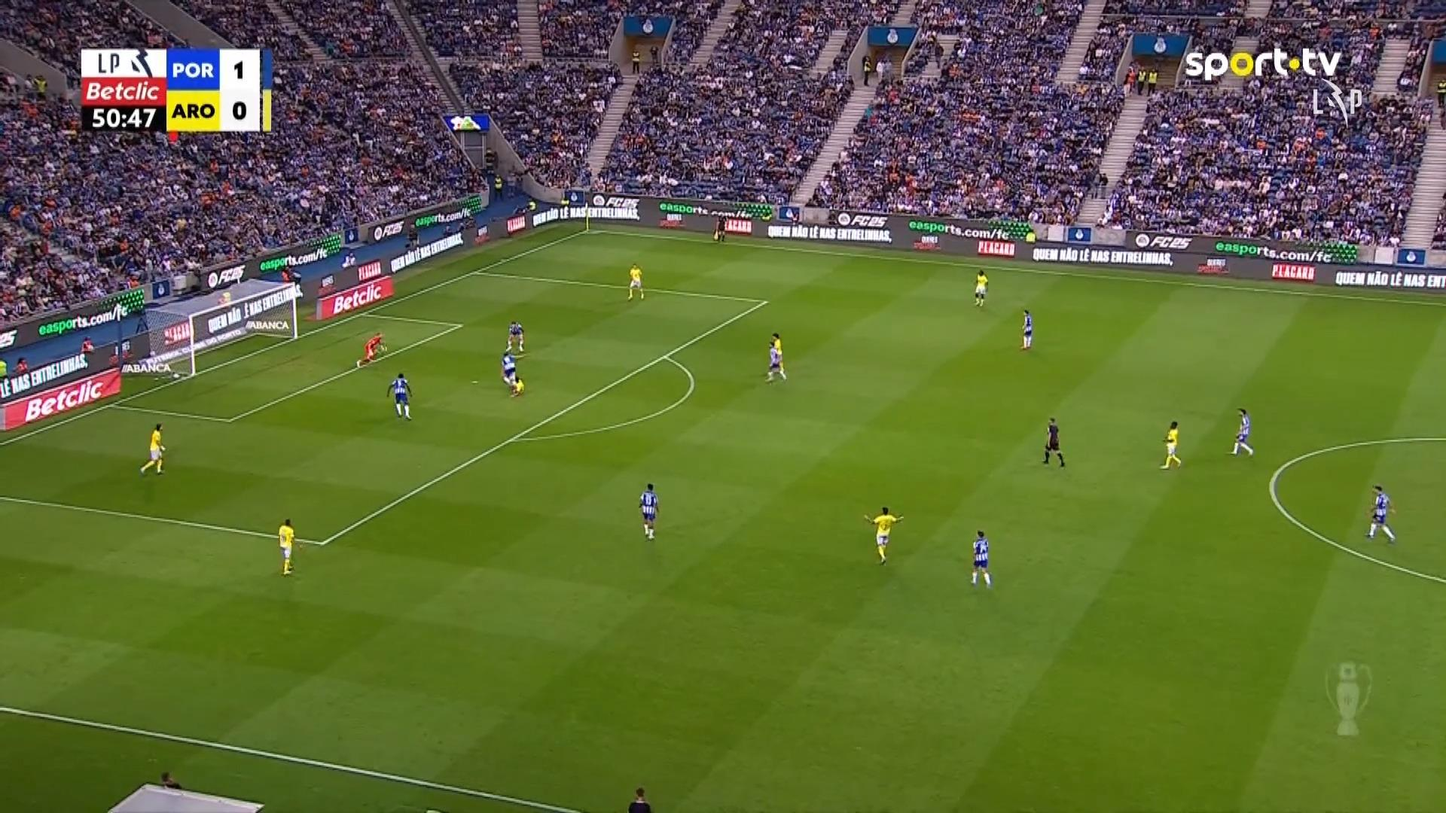ball: (514, 379, 523, 392)
goalkeeper: (356, 331, 386, 367)
player: (862, 505, 904, 565), (1365, 483, 1396, 543), (139, 422, 166, 475), (386, 372, 413, 420), (969, 529, 991, 587), (638, 482, 659, 540), (500, 349, 524, 397), (1159, 420, 1182, 469), (1231, 406, 1253, 456), (765, 332, 786, 383), (277, 517, 295, 575), (626, 263, 645, 300), (505, 320, 525, 353), (973, 269, 989, 307), (1020, 309, 1033, 349)
referee: (1042, 416, 1065, 467), (627, 787, 651, 811), (712, 215, 727, 243)
